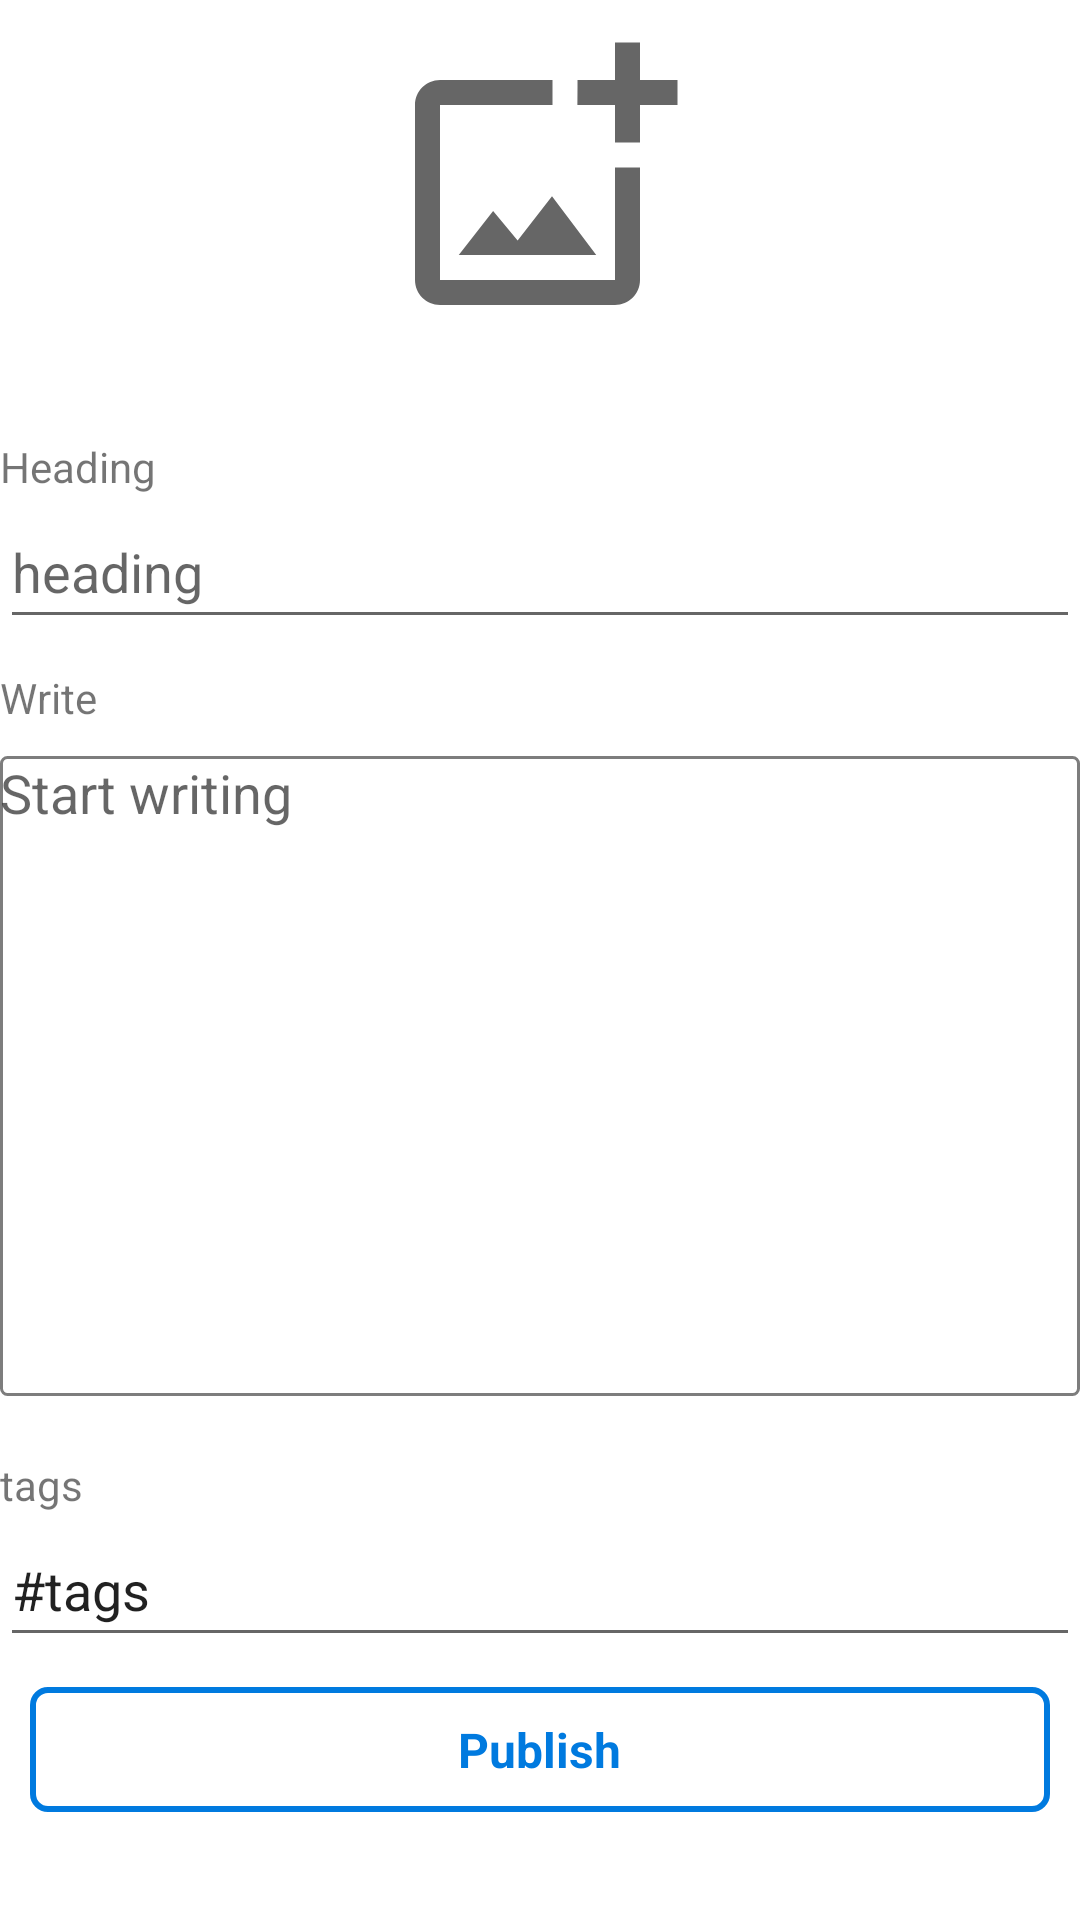

Icon click points for this 1080px x 1920px phone screenshot, format (x=x, y=y):
add photo alternate: (x=546, y=173)
